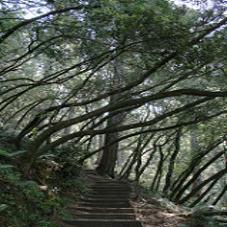Stair Up: (70, 180, 142, 227)
